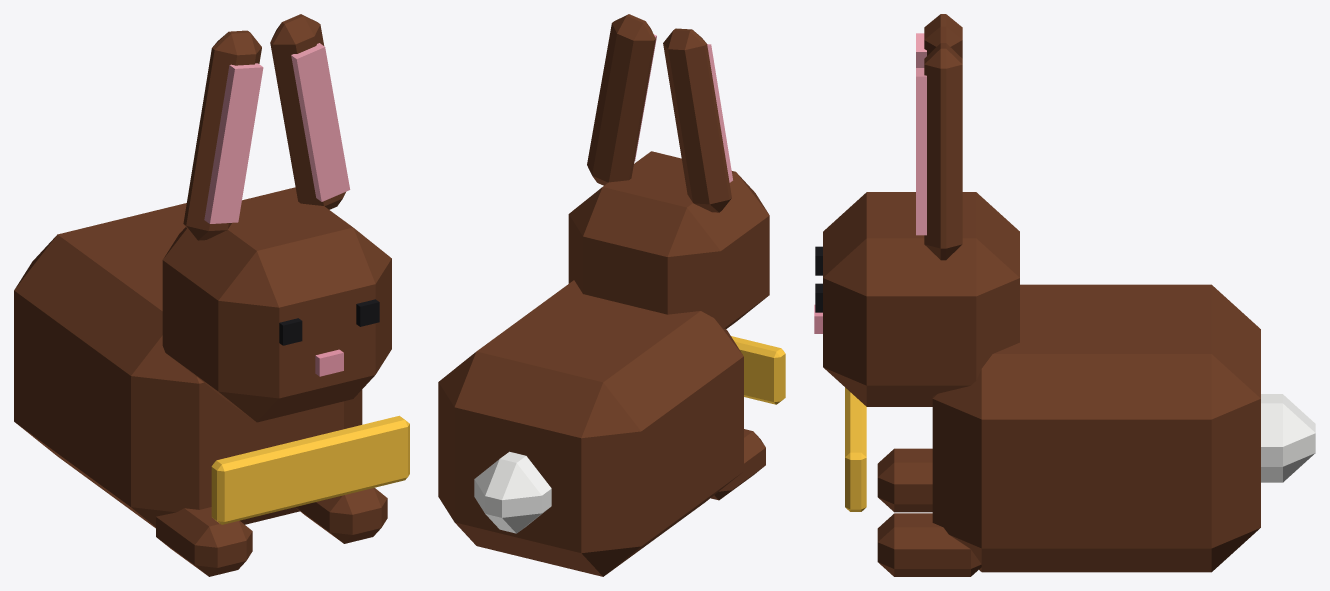
Rendered from ChocolateBunny.fbx.
The picture shows the model from 3 angles, left to right: view 1: azimuth 30°, elevation 25°; view 2: azimuth 150°, elevation 25°; view 3: azimuth 270°, elevation 25°; orthographic projection. The views are drawn at different scales.
Visible parts, largest first — view 1: ChocolateBunny; view 2: ChocolateBunny; view 3: ChocolateBunny.
Part boxes in pixels (<box>): ChocolateBunny: <box>14,14,409,576</box>; ChocolateBunny: <box>438,14,785,576</box>; ChocolateBunny: <box>814,14,1315,576</box>.
Bounding box in the file's own units: 2.4 × 5.1 × 4.58.
1 material, 1 textured.
